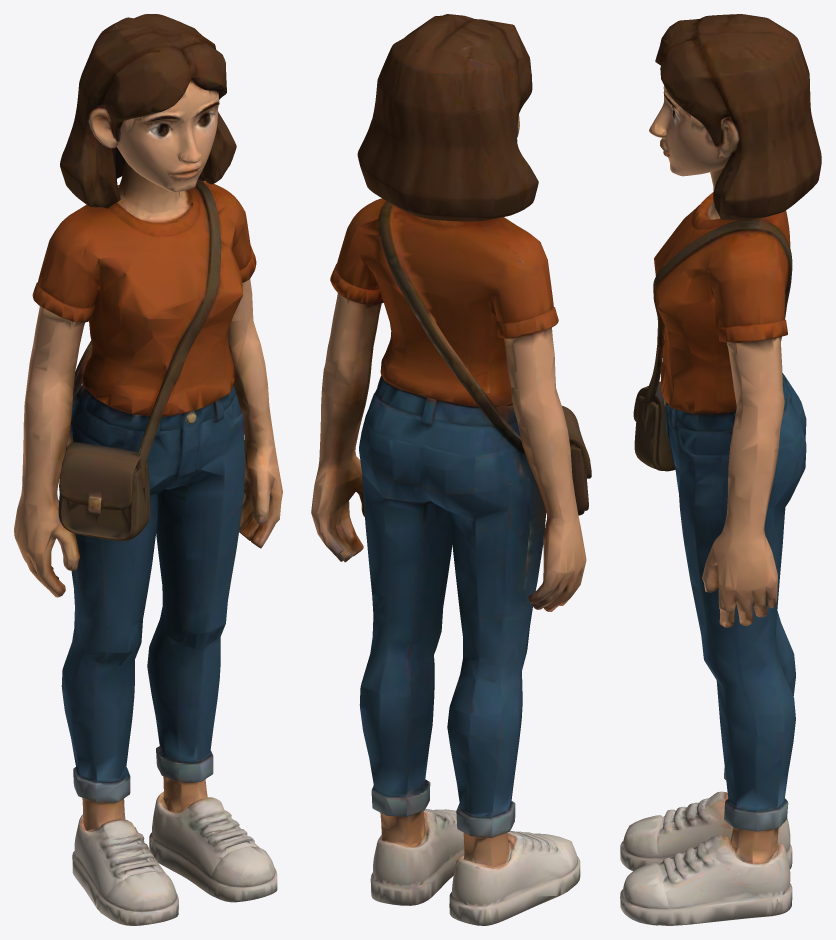
File: 18to30_Female.glb
3 renders of one model, left to right at view 1: azimuth 30°, elevation 25°; view 2: azimuth 150°, elevation 25°; view 3: azimuth 270°, elevation 25°, orthographic. The views are drawn at different scales.
Parts seen in each view (by area): view 1: node_0; view 2: node_0; view 3: node_0.
Part boxes in pixels (x1,y1,x2,y2): node_0: (14,14,282,925); node_0: (311,14,591,925); node_0: (620,14,821,925).
Size of the model in its own units: 0.3665 by 1.17 by 0.248.
Materials: 1 (1 with a texture image).
